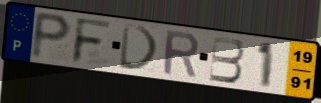1: (255, 42, 276, 89)
B: (207, 35, 246, 85)
D: (118, 22, 161, 73)
F: (69, 16, 114, 66)
P: (28, 9, 74, 62)
R: (161, 29, 201, 80)
